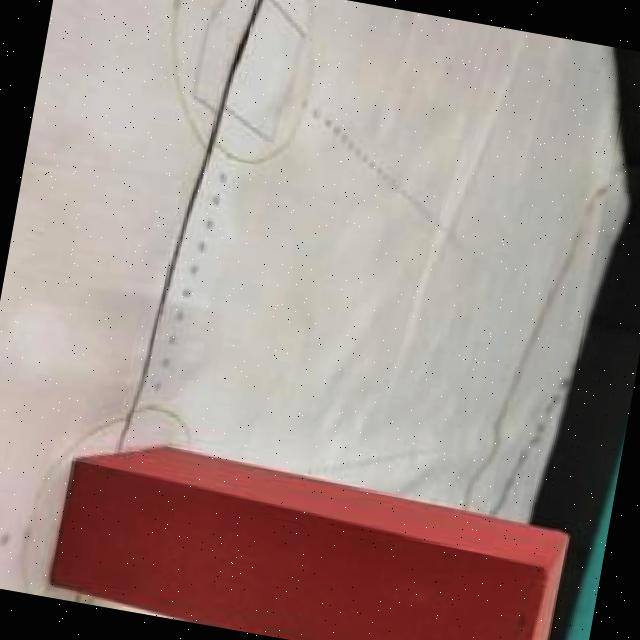redbox: (45, 423, 574, 640)
